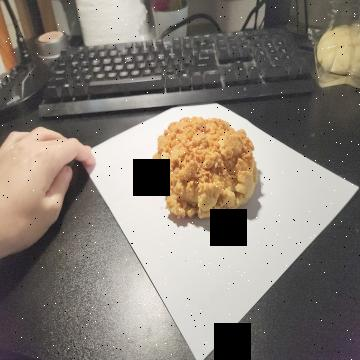soboru_bread: (151, 115, 257, 223)
